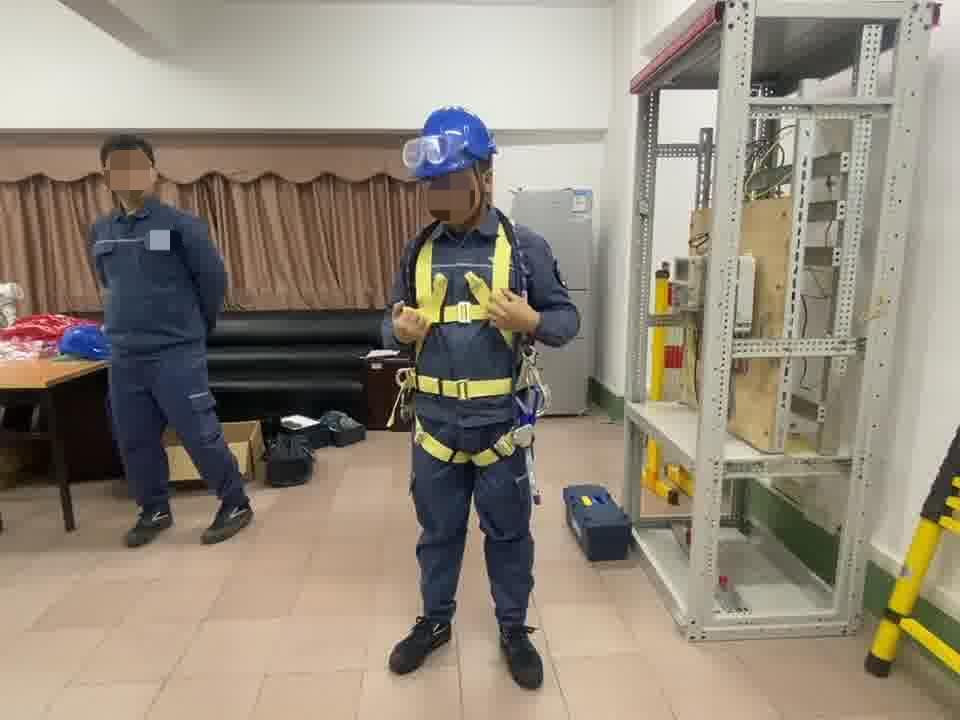halt: (410, 108, 503, 223)
inear: (471, 162, 499, 203)
unhalt: (100, 137, 163, 210)
